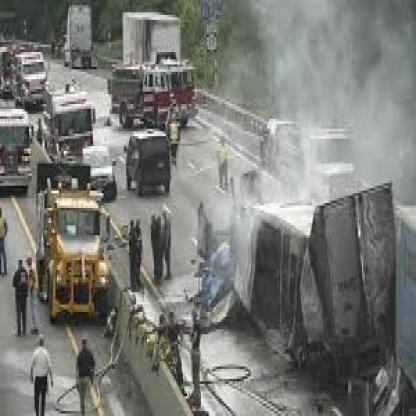accident: (201, 126, 416, 405)
